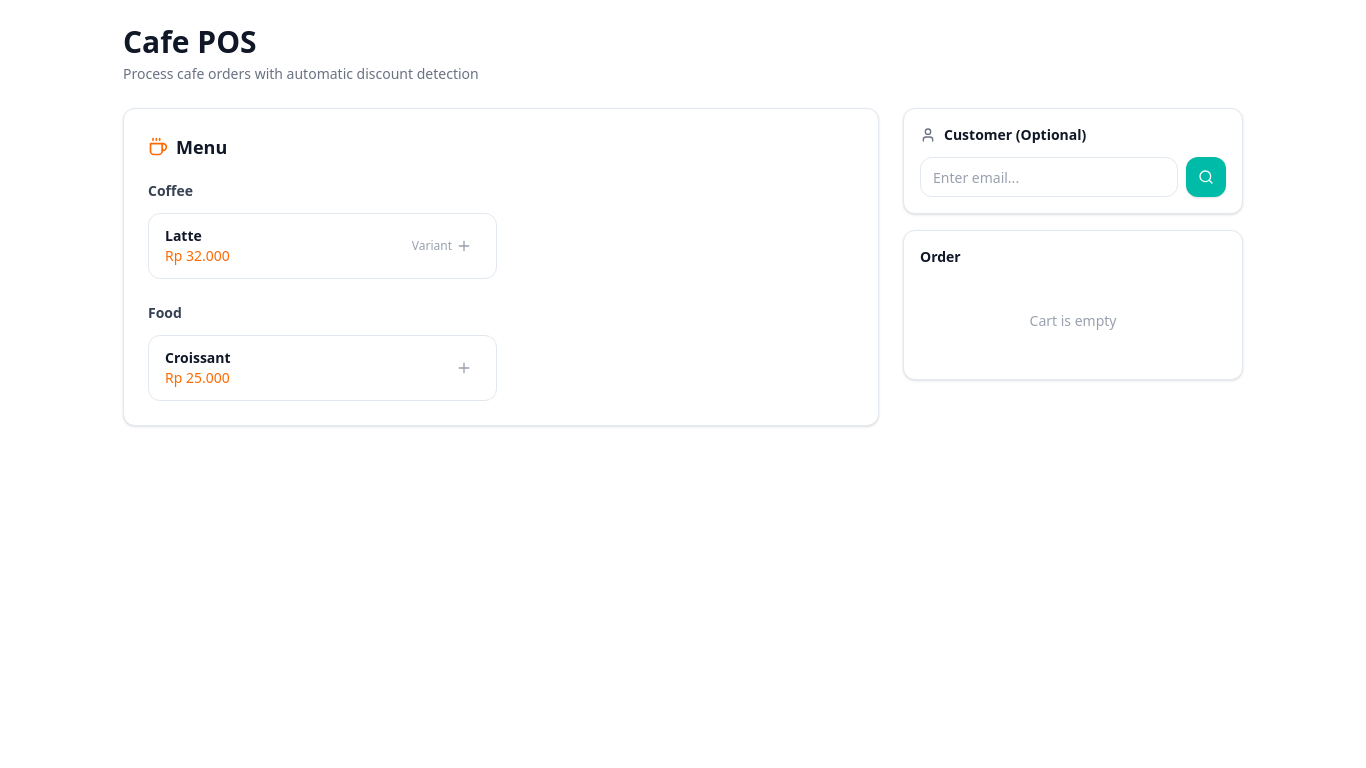
it: PosClient (AC-101) › I-047: clear-cart control resets the cart and the member lookup in one click (ORIG pos:94-99)
The image size is (1366, 768).
Note: Look up a member and add an item to the cart.
Step 1. Type "gold@x.test" into the field with placeholder "Enter email..." → (1049, 177), box top-left (920, 157), bottom-right (1178, 197)
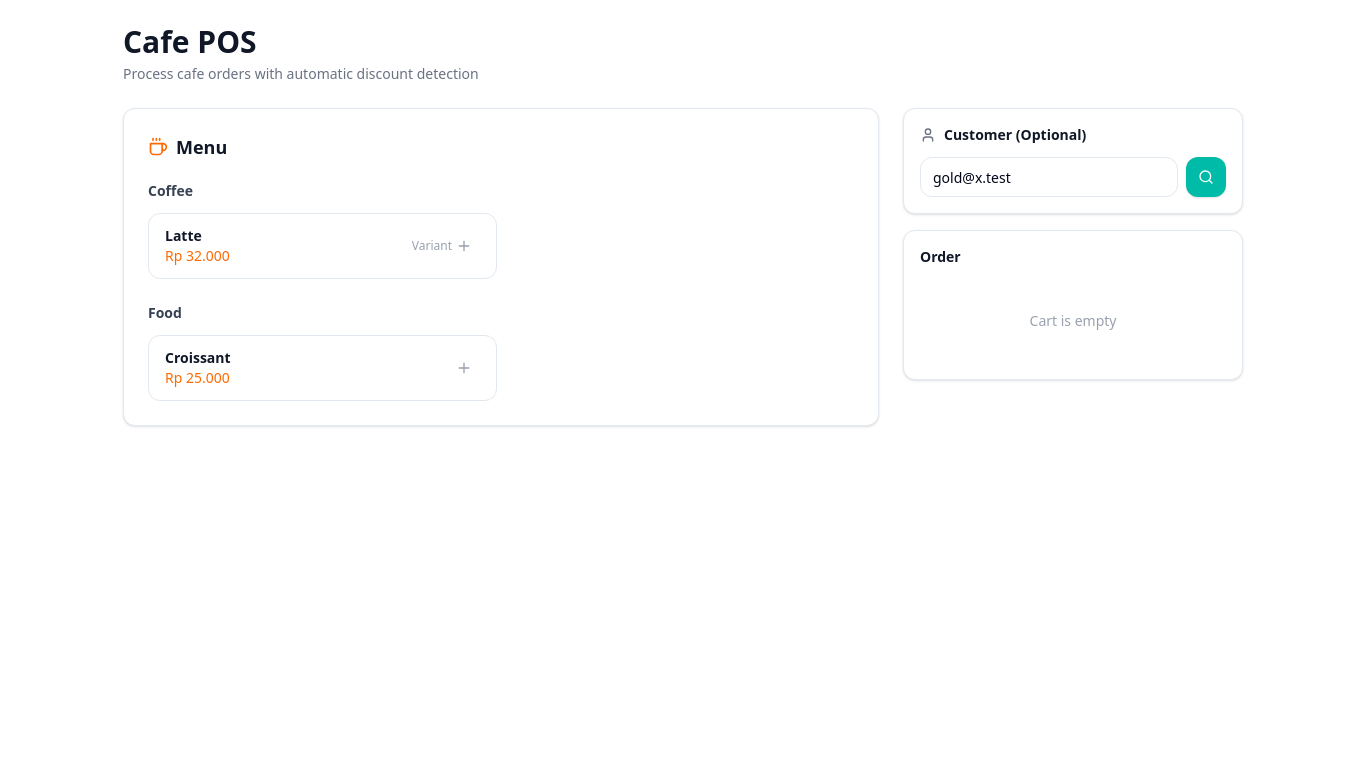
Step 2. Click the button named "search customer" → (1206, 177), box top-left (1186, 157), bottom-right (1226, 197)
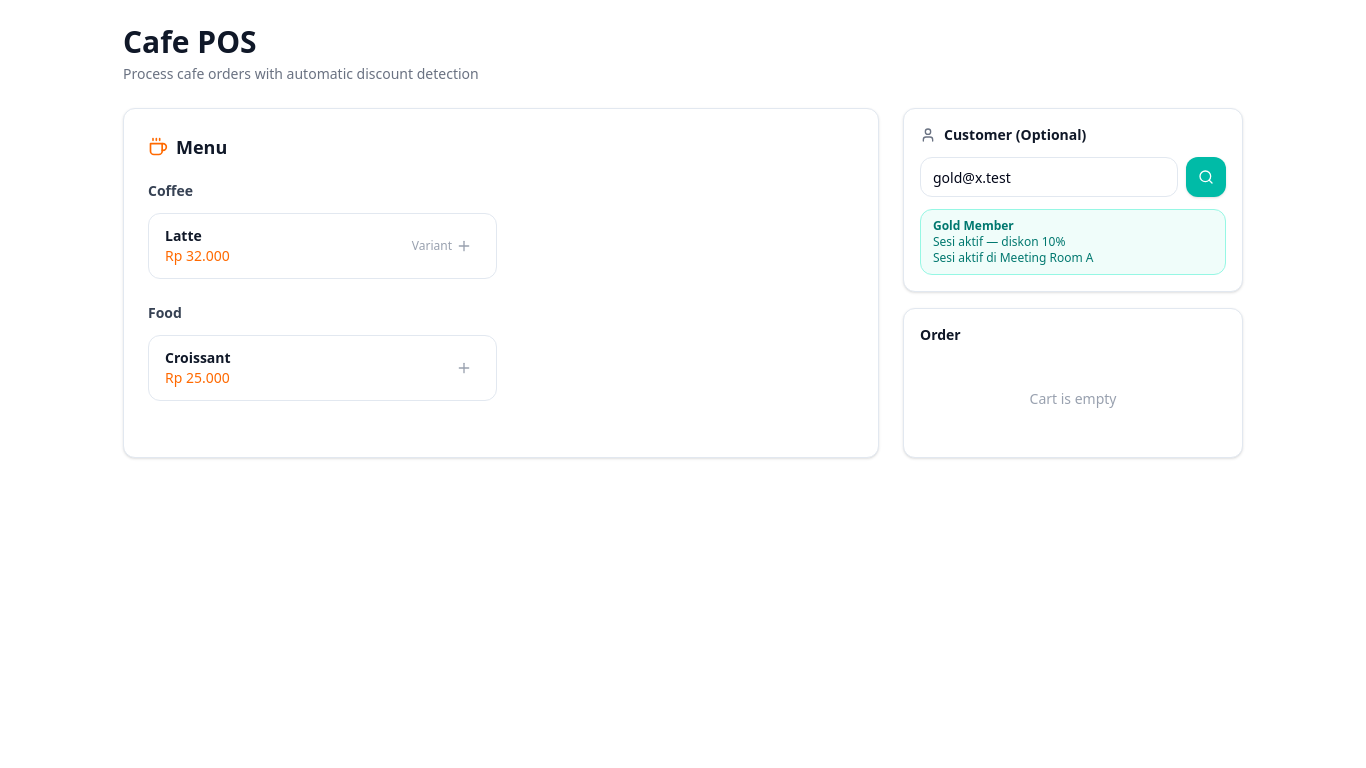
Check: the text "Gold Member" is shown, box top-left (933, 217), bottom-right (1014, 234)
Step 3. Click the button named "add croissant" → (464, 368), box top-left (448, 354), bottom-right (480, 382)
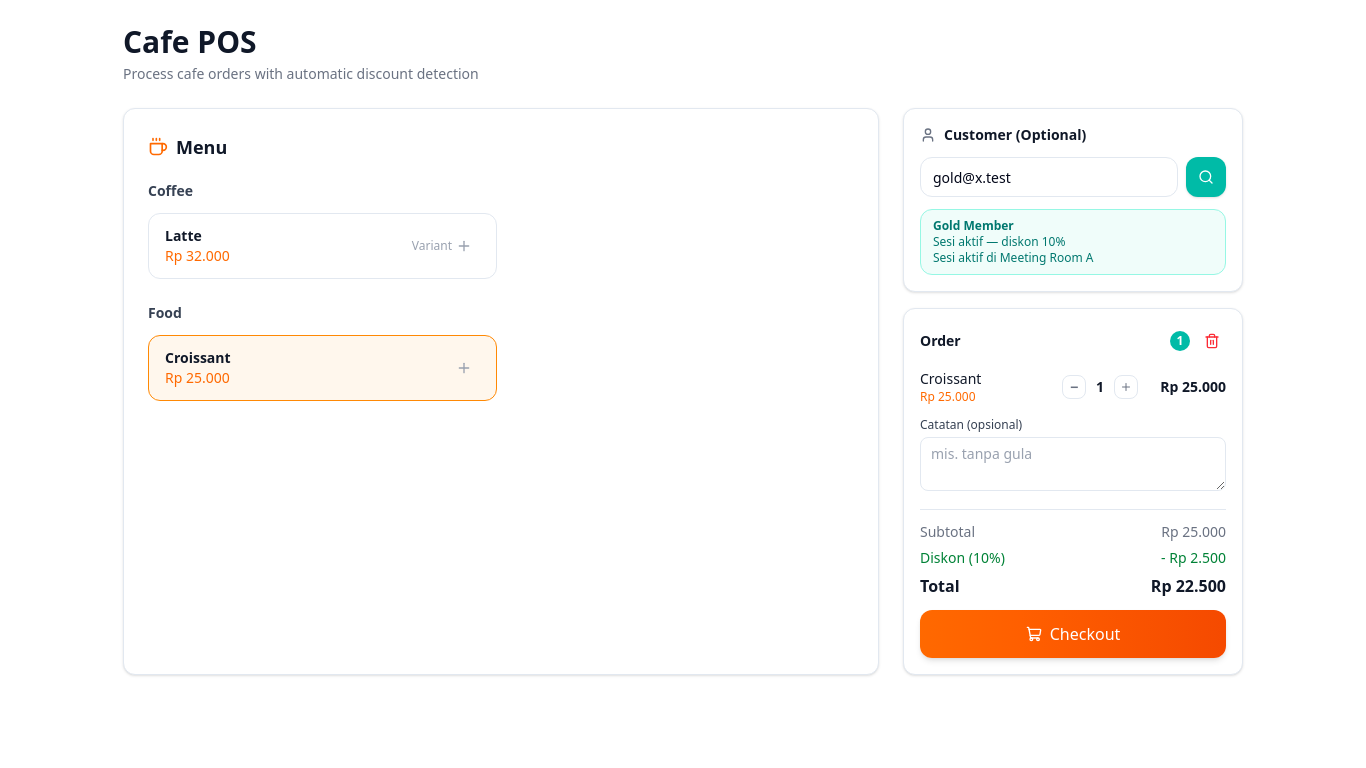
Check: the text "Cart is empty" is gone
Note: Clear cart — resets cart + member lookup.
Step 4. Click the button named "clear cart" → (1212, 341), box top-left (1198, 325), bottom-right (1226, 357)
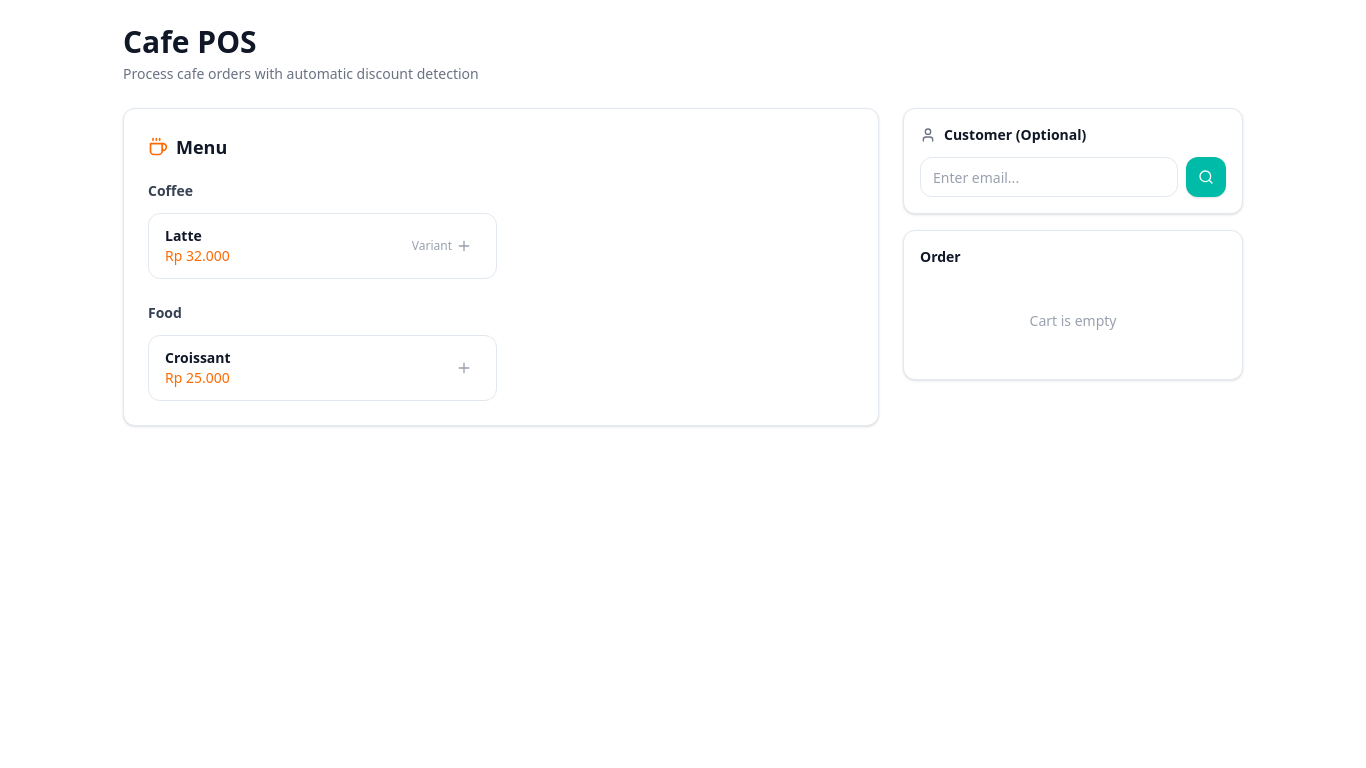
Check: the text "Cart is empty" is shown, box top-left (1030, 311), bottom-right (1116, 331)
Check: the text "Gold Member" is gone
Check: the field with placeholder "Enter email..." is empty, box top-left (920, 157), bottom-right (1178, 197)
